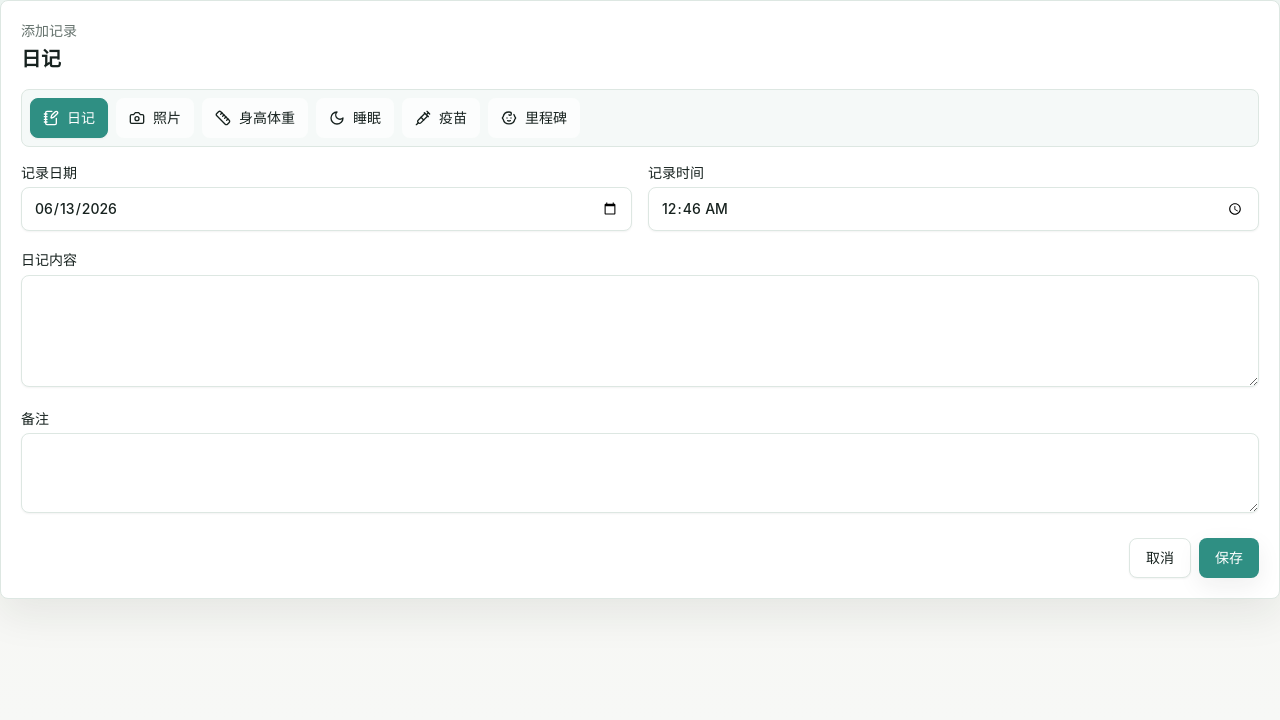
RecordComposer › prevents duplicate saves while an async save is pending
In the text box labelled "日记内容": (640, 331) x1=21 y1=275 x2=1259 y2=387, type "午睡醒来心情很好"
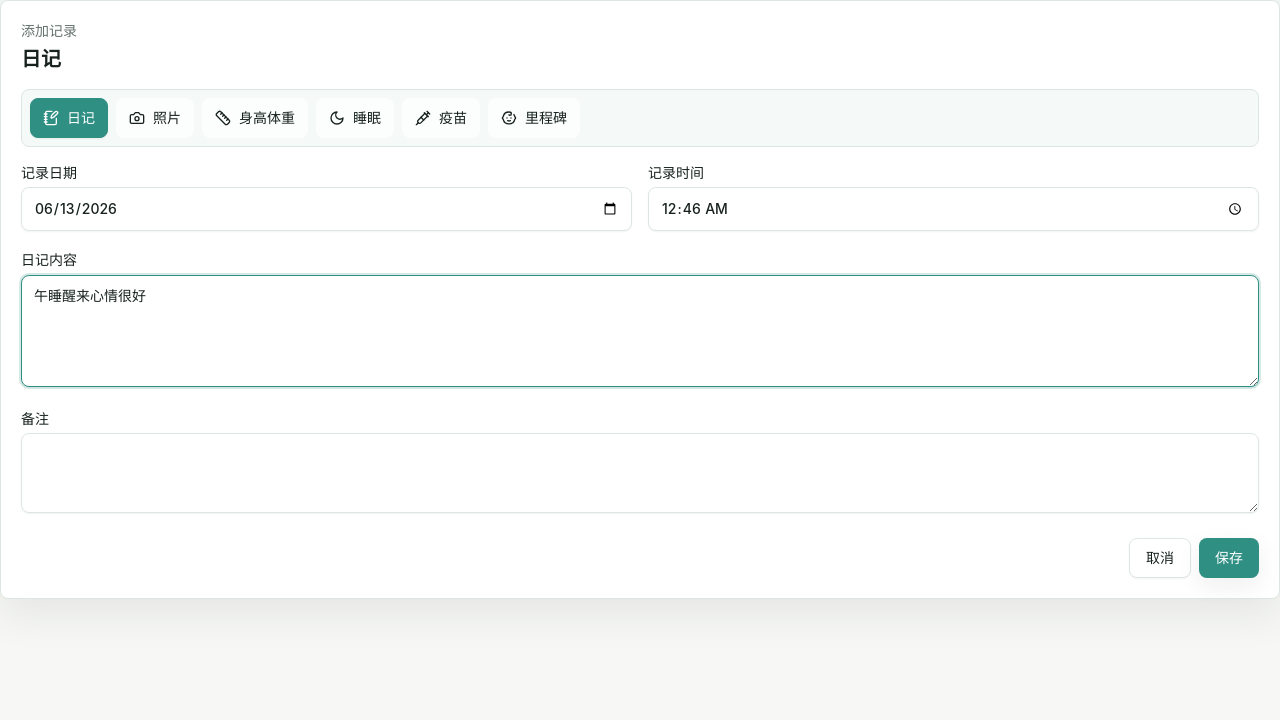
Double-click the button "保存": (1229, 558) x1=1199 y1=538 x2=1259 y2=578
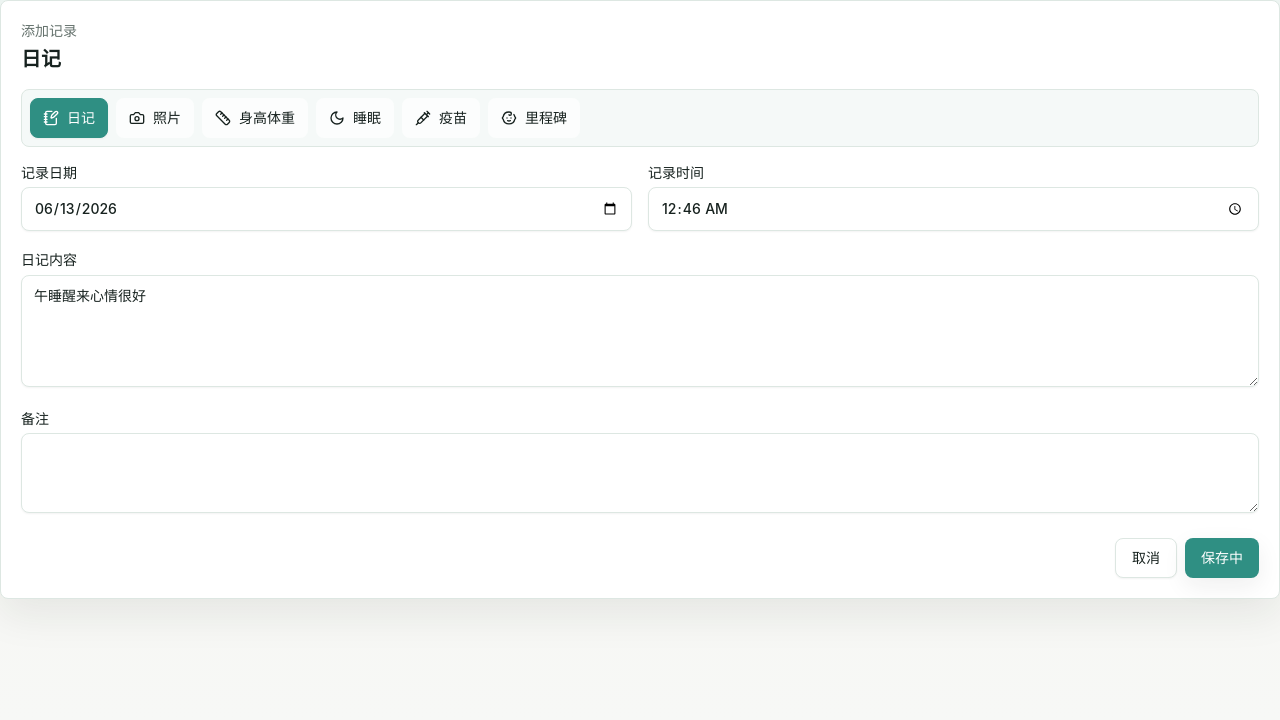
Check: the button "日记" is disabled, box x1=30 y1=98 x2=108 y2=138
Check: the button "保存中" is disabled, box x1=1185 y1=538 x2=1259 y2=578
Check: the button "取消" is disabled, box x1=1115 y1=538 x2=1177 y2=578
